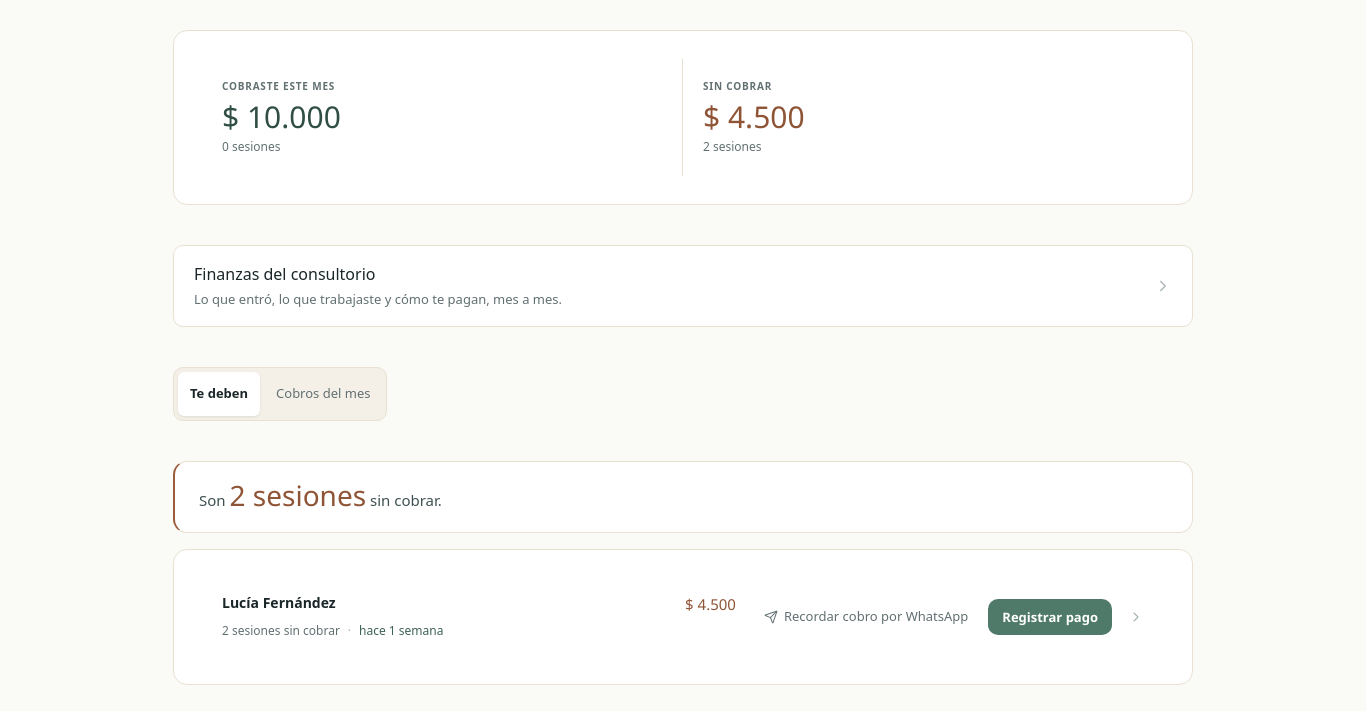
Test case: Te deben: registrar pago › con 'Marcar todas' cobra cada sesión con el mismo método y la paciente sale de la lista
(page scrolled)
Click the button "Registrar pago": {"x": 1050, "y": 617} [988,599,1112,635]
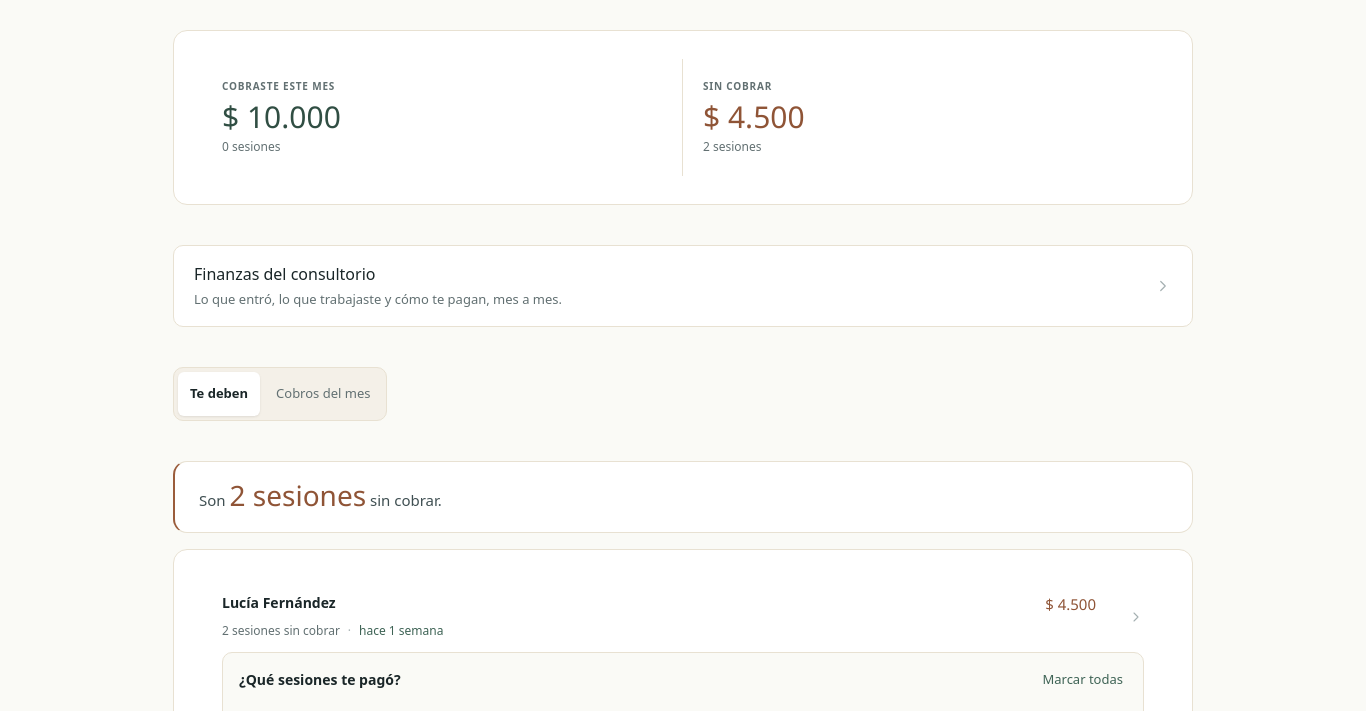
Click the button "Marcar todas": {"x": 1083, "y": 680} [1038,670,1127,690]
(page scrolled)
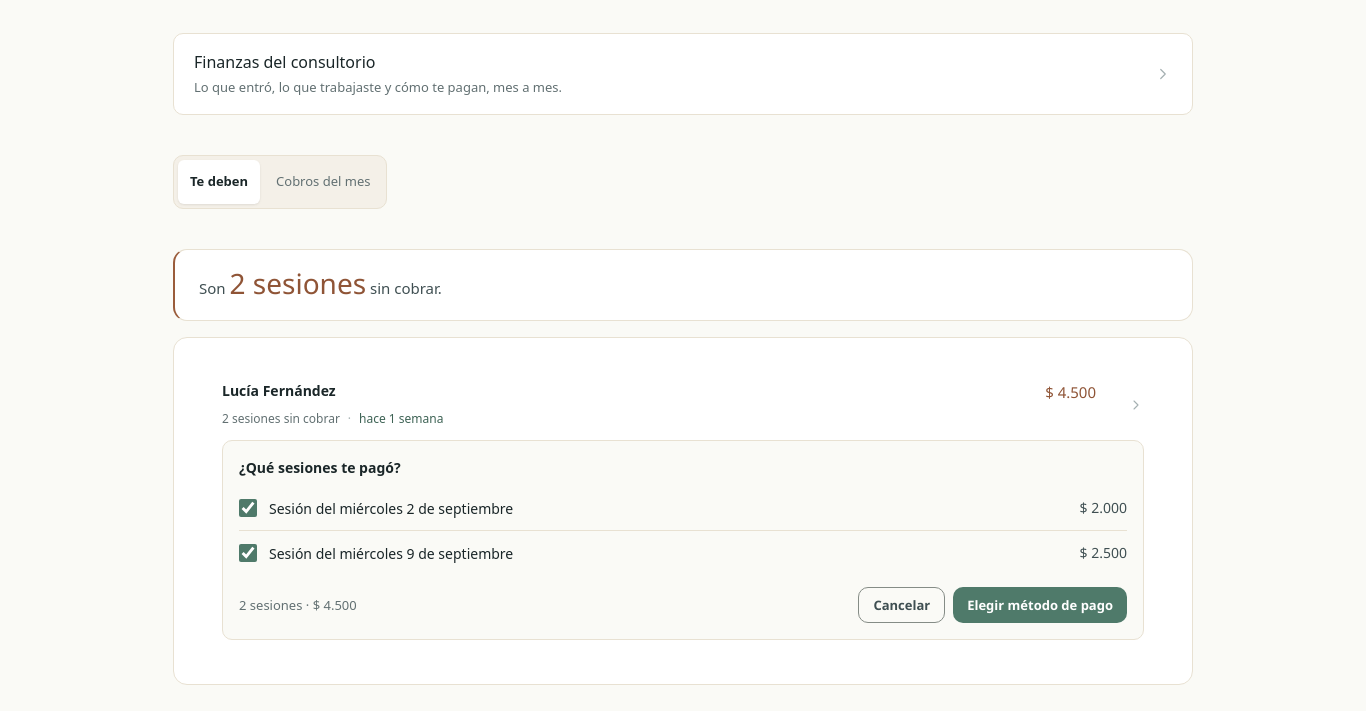
Check: the text "2 sesiones · $ 4.500" is shown, box [239,596,357,615]
Click the button "Elegir método de pago": {"x": 1040, "y": 605} [953,587,1127,623]
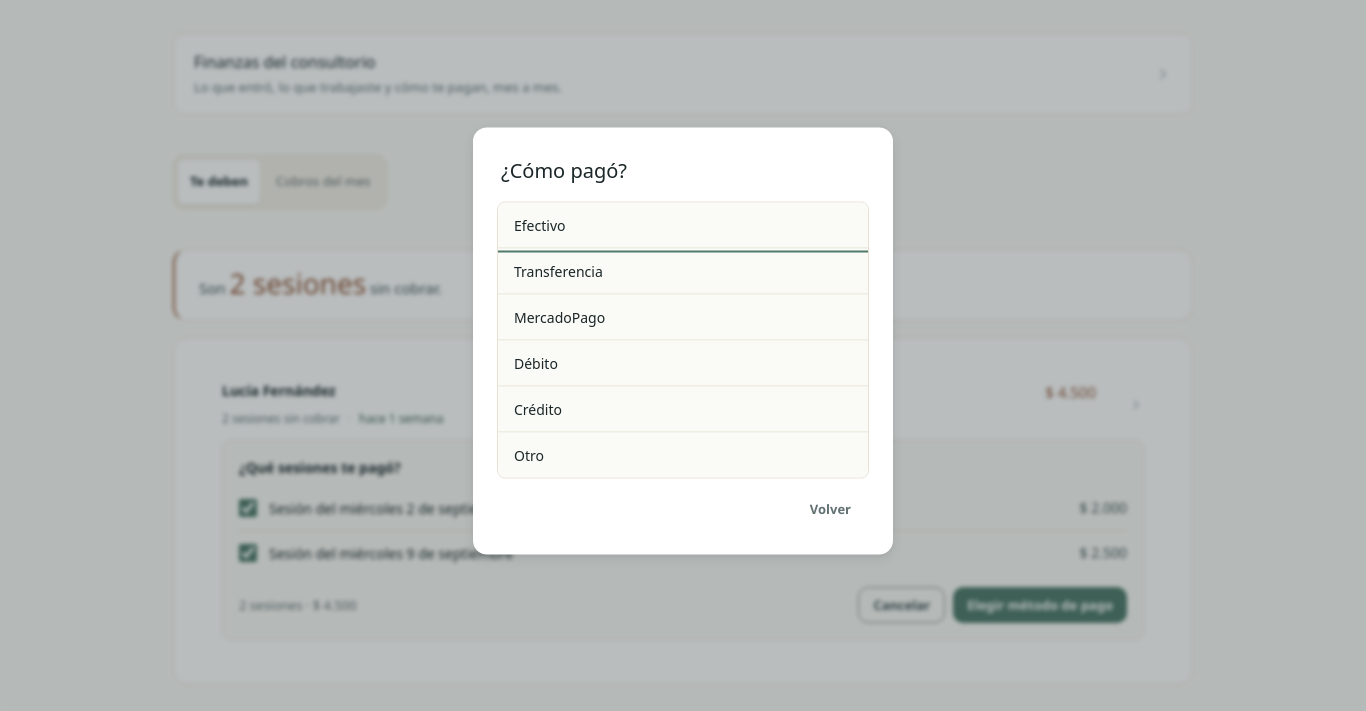
Click the button "Efectivo": {"x": 540, "y": 225} [498,202,868,248]
(page scrolled)
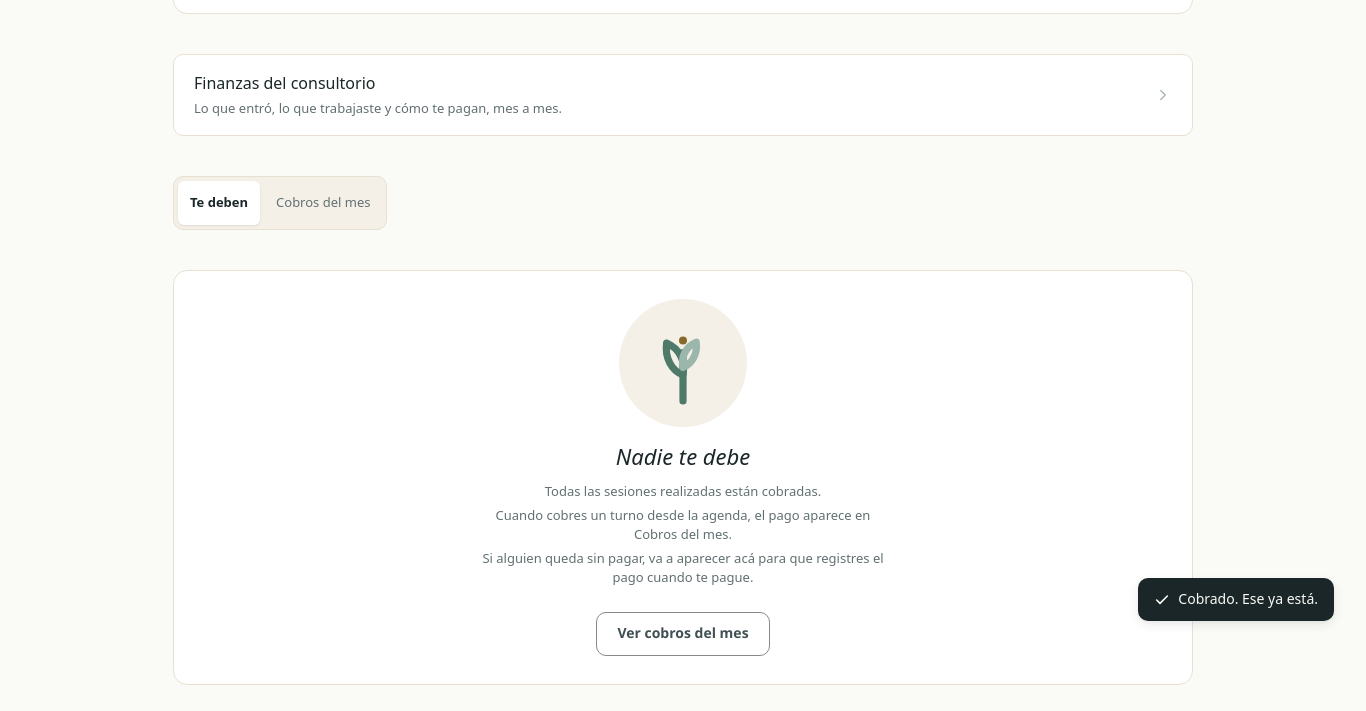
Check: the heading "Nadie te debe" is shown, box [616,443,750,470]
